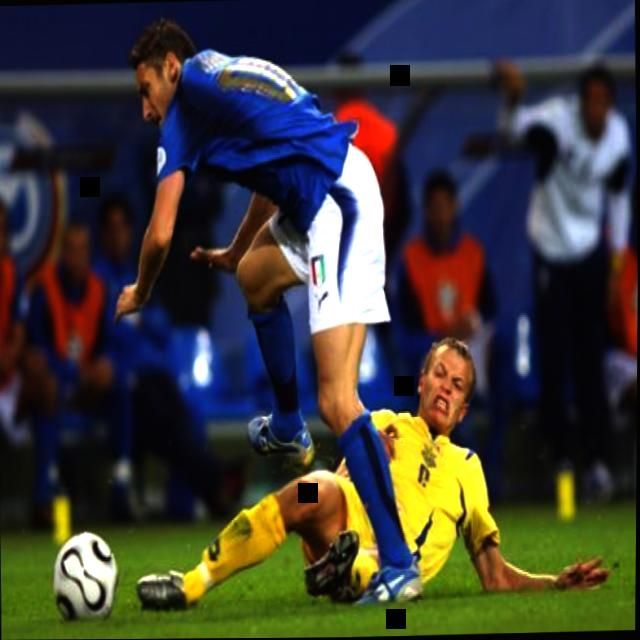Fall-Detected: (108, 319, 614, 603)
